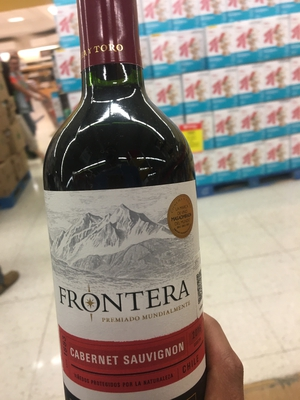frontera cabernet sauvignon: (43, 14, 221, 400)
